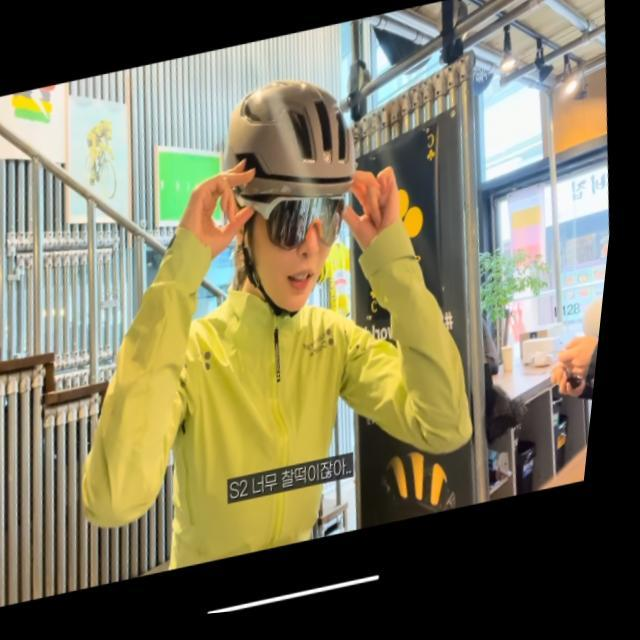Helmet: (216, 72, 365, 314)
